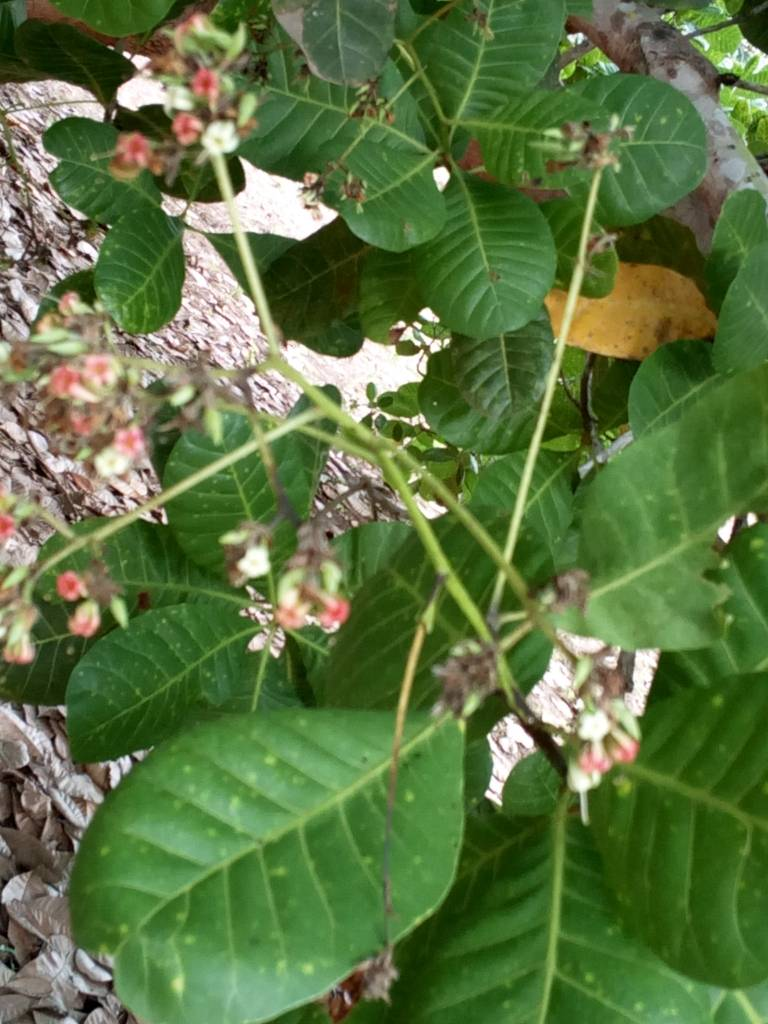Alternariose: (72, 705, 466, 1021), (590, 682, 763, 988), (68, 602, 244, 764)
